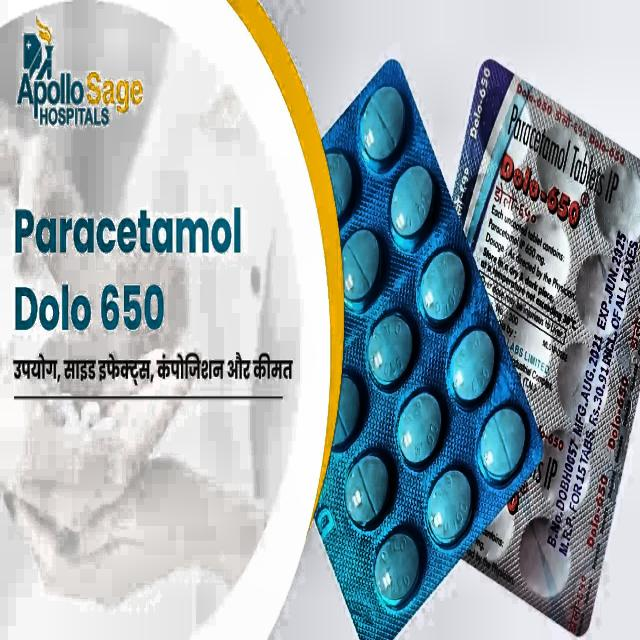Paracetamol: (11, 197, 274, 340)
